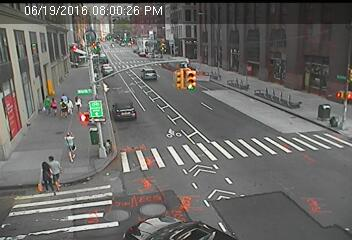neg: (327, 109, 347, 135), (117, 31, 130, 48), (134, 34, 146, 51), (103, 31, 111, 41)
pos: (32, 159, 56, 190), (40, 151, 63, 182), (56, 132, 79, 161), (38, 93, 53, 114), (56, 98, 70, 117), (46, 95, 59, 112), (71, 93, 82, 108), (64, 98, 74, 112), (61, 93, 66, 99)
